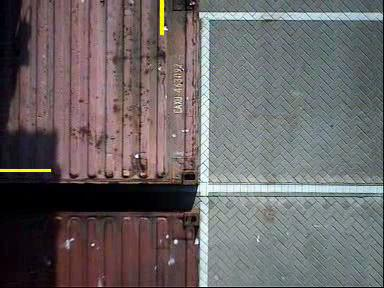groundmarker_2: (204, 134, 248, 189)
